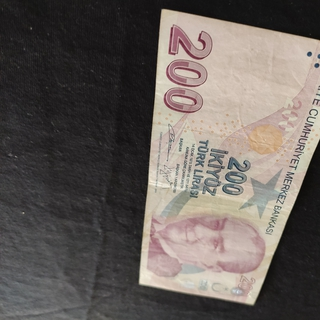200TLFront: (138, 8, 320, 306)
